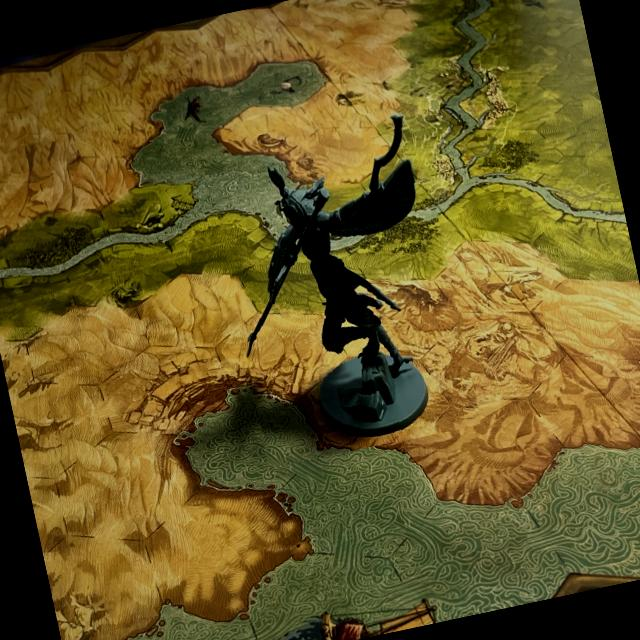isis: (201, 102, 482, 468)
